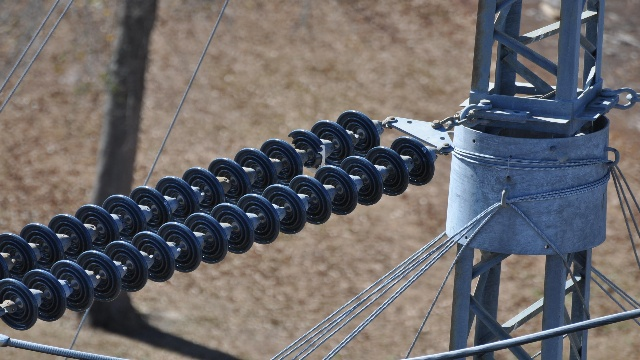broken_local: (287, 128, 329, 169)
insulator_unspecified: (0, 109, 434, 331)
